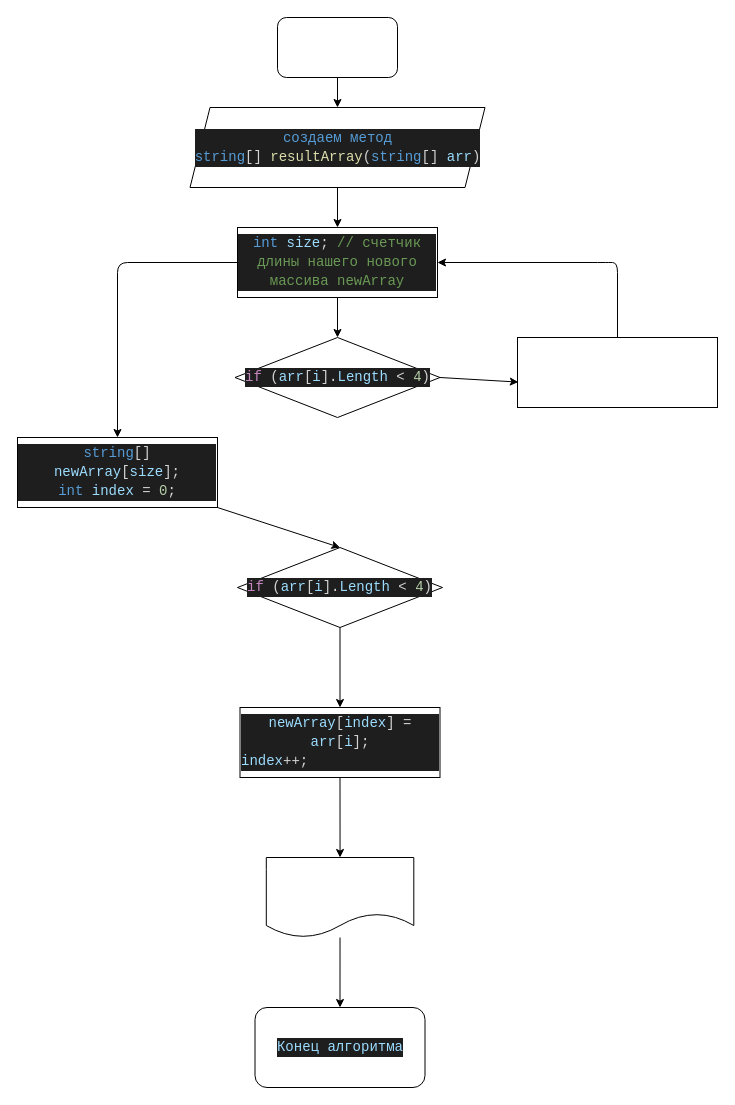
This 735x1105 diagram has some shape labels left out. The centre of each missing label's shape, as x and y in pixels:
return newArray ;: the point at 339,897
size ++;: the point at 617,372
Начало алгоритма: the point at 337,47
